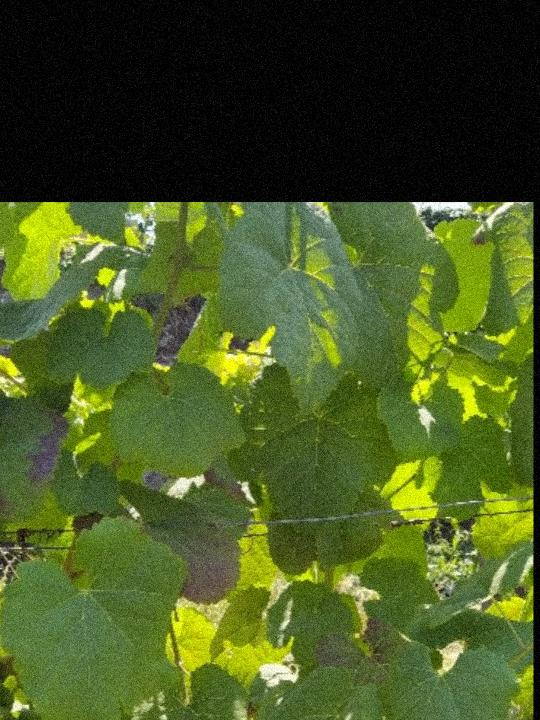grape: (13, 706, 76, 720), (0, 680, 14, 720)
